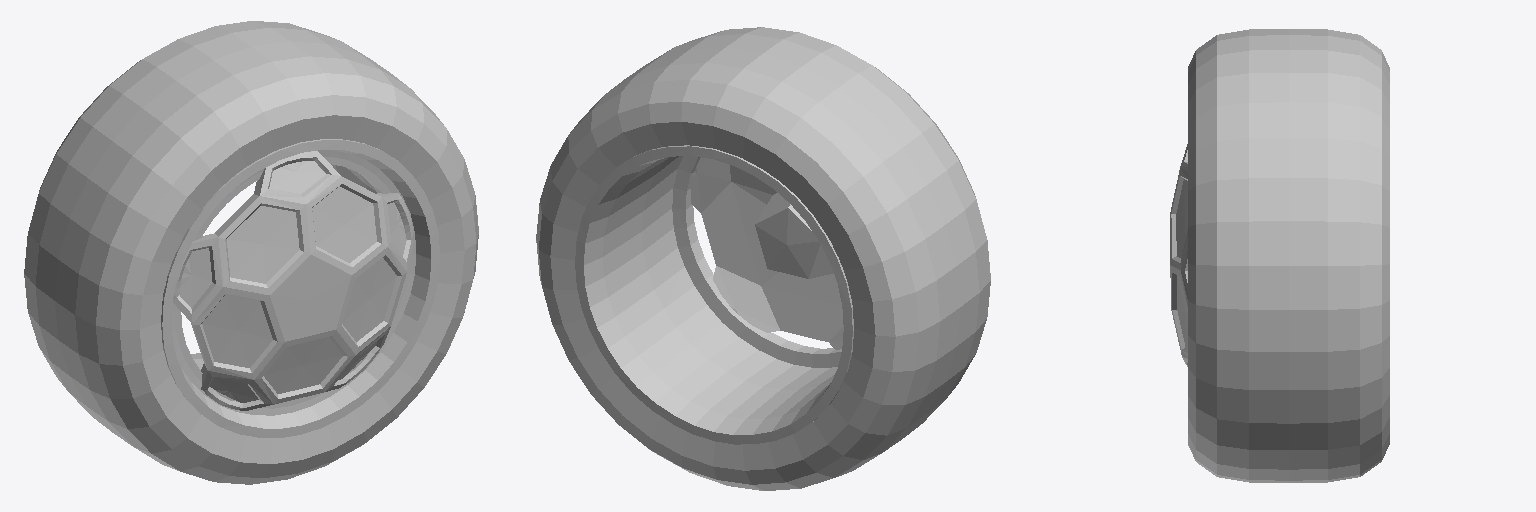
The model's file is Cristiano.obj.
3 views of the same model, side by side, from view 1: azimuth 30°, elevation 25°; view 2: azimuth 150°, elevation 25°; view 3: azimuth 270°, elevation 25° (orthographic).
Visible parts, largest first — view 1: Rim_SB_SM.001; view 2: Rim_SB_SM.001; view 3: Rim_SB_SM.001.
Boxes of the visible parts, box(x1,y1,x2,y2) form: Rim_SB_SM.001: box(24, 21, 478, 484); Rim_SB_SM.001: box(536, 27, 990, 490); Rim_SB_SM.001: box(1170, 29, 1389, 482).
Bounding box in the file's own units: 32.63 × 32.63 × 15.79.